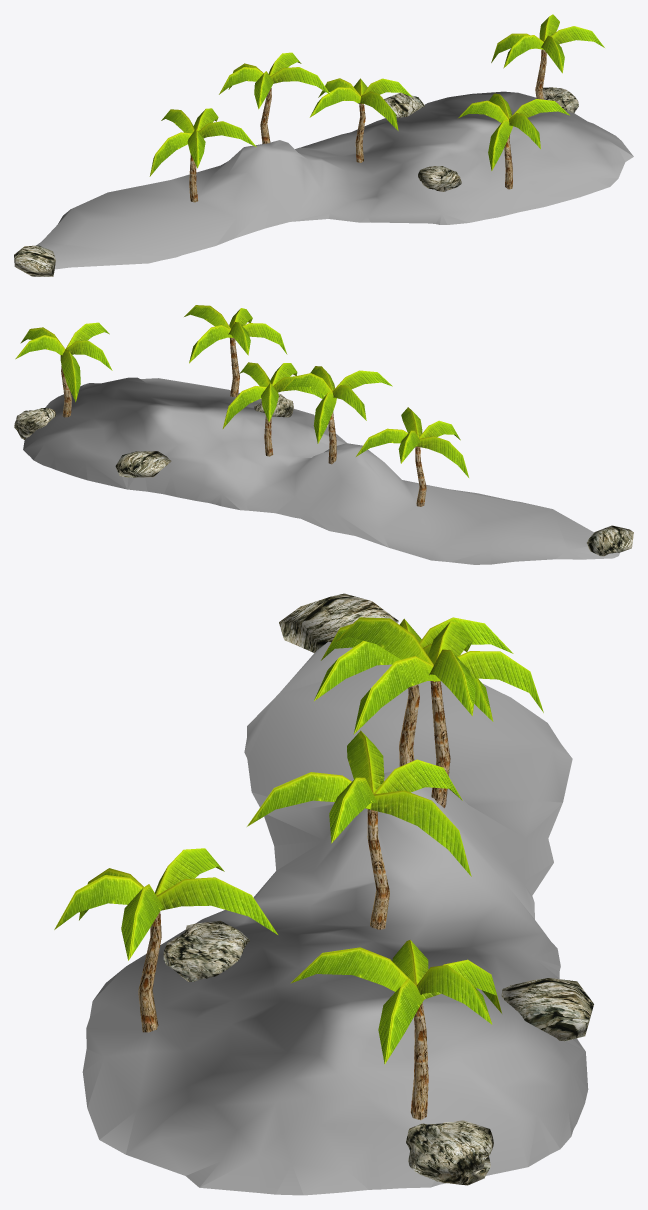
Rendered from desert_island_05.fbx.
3 views of the same model, one above another, from view 1: azimuth 30°, elevation 25°; view 2: azimuth 150°, elevation 25°; view 3: azimuth 270°, elevation 25° (orthographic). The views are drawn at different scales.
Parts seen in each view (by area): view 1: desert_island_05; view 2: desert_island_05; view 3: desert_island_05.
Part boxes in pixels (x1,y1,x2,y2): desert_island_05: (14,14,633,276); desert_island_05: (14,305,633,564); desert_island_05: (54,593,593,1195).
Size of the model in its own units: 0.451 by 0.0959 by 0.1758.
2 materials, 1 textured.
